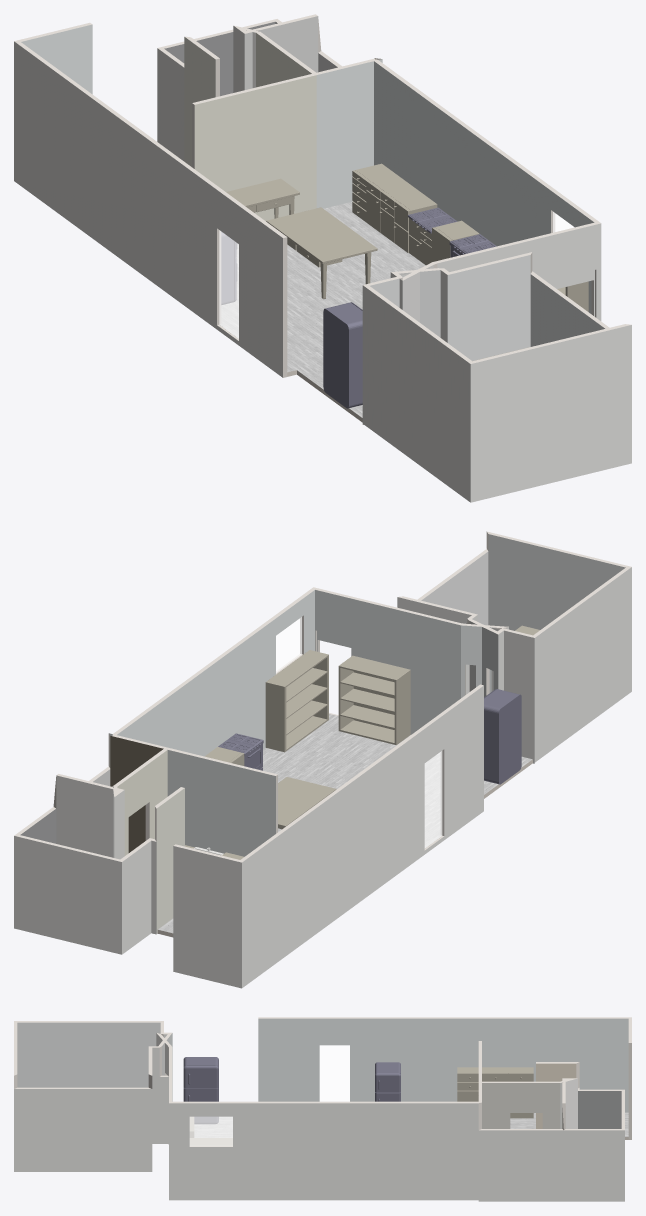
File: Elks_Lodge_Kitchen.glb
The picture shows the model from 3 angles, top to bottom: view 1: azimuth 30°, elevation 25°; view 2: azimuth 150°, elevation 25°; view 3: azimuth 270°, elevation 25°; orthographic projection. The views are drawn at different scales.
Parts seen in each view (by area): view 1: wall_10, wall_7, wall_104, wall_5, wall_42, floor_Kitchen, wall_100, wall_72, wall_31, storage_cabinet_mid40, table_other_rect2, refrigerator0 (+19 smaller); view 2: wall_10, wall_5, wall_104, wall_98, wall_12, wall_30, wall_3, wall_50, floor_Kitchen, storage_shelf1, storage_shelf0, wall_27 (+19 smaller); view 3: wall_34, wall_56, wall_2, wall_46, wall_23, wall_13, wall_29, refrigerator0, door_0, door_2, storage_cabinet_mid30, wall_44 (+13 smaller).
Boxes of the visible parts, left/top/right/bottom form: wall_10: left=14, top=41, right=282, bottom=377; wall_7: left=470, top=325, right=631, bottom=502; wall_104: left=374, top=61, right=594, bottom=313; wall_5: left=362, top=285, right=470, bottom=502; wall_42: left=194, top=75, right=316, bottom=221; floor_Kitchen: left=219, top=202, right=425, bottom=417; wall_100: left=447, top=255, right=530, bottom=360; wall_72: left=316, top=61, right=373, bottom=208; wall_31: left=437, top=223, right=601, bottom=320; storage_cabinet_mid40: left=352, top=163, right=437, bottom=252; table_other_rect2: left=266, top=207, right=377, bottom=299; refrigerator0: left=323, top=302, right=362, bottom=408; wall_10: left=242, top=685, right=483, bottom=987; wall_5: left=534, top=567, right=631, bottom=762; wall_104: left=117, top=590, right=314, bottom=756; wall_98: left=315, top=590, right=460, bottom=734; wall_12: left=14, top=836, right=121, bottom=954; wall_30: left=173, top=846, right=241, bottom=988; wall_3: left=167, top=750, right=275, bottom=856; wall_50: left=488, top=534, right=625, bottom=630; floor_Kitchen: left=158, top=714, right=532, bottom=933; storage_shelf1: left=338, top=655, right=410, bottom=744; storage_shelf0: left=265, top=650, right=328, bottom=752; wall_27: left=56, top=775, right=111, bottom=857; wall_34: left=169, top=1103, right=478, bottom=1200; wall_56: left=258, top=1018, right=628, bottom=1112; wall_2: left=14, top=1089, right=152, bottom=1171; wall_46: left=17, top=1022, right=160, bottom=1087; wall_23: left=478, top=1130, right=563, bottom=1201; wall_13: left=564, top=1130, right=624, bottom=1201; wall_29: left=482, top=1083, right=560, bottom=1128; refrigerator0: left=183, top=1057, right=218, bottom=1123; door_0: left=320, top=1045, right=349, bottom=1101; door_2: left=320, top=1045, right=349, bottom=1101; storage_cabinet_mid30: left=457, top=1067, right=533, bottom=1118; wall_44: left=578, top=1091, right=621, bottom=1128.
Size of the model in its own units: 5.99 by 3.1 by 17.87.
Materials: 96 (3 with a texture image).
